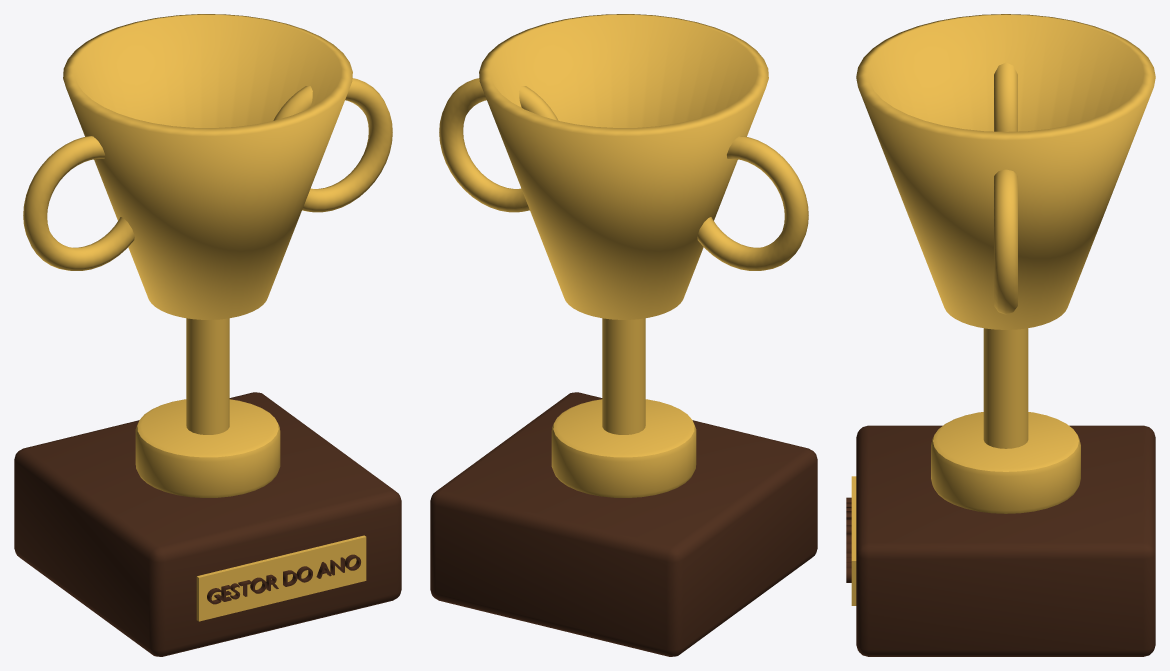
The model's file is trofeu.glb.
3 renders of one model, left to right at view 1: azimuth 30°, elevation 25°; view 2: azimuth 150°, elevation 25°; view 3: azimuth 270°, elevation 25°, orthographic. The views are drawn at different scales.
Visible parts, largest first — view 1: Trofeu; view 2: Trofeu; view 3: Trofeu.
Boxes of the visible parts, bbox=[...] form: Trofeu: bbox=[14, 14, 401, 656]; Trofeu: bbox=[430, 14, 817, 656]; Trofeu: bbox=[846, 14, 1155, 656].
Size of the model in its own units: 0.35 by 0.4633 by 0.248.
